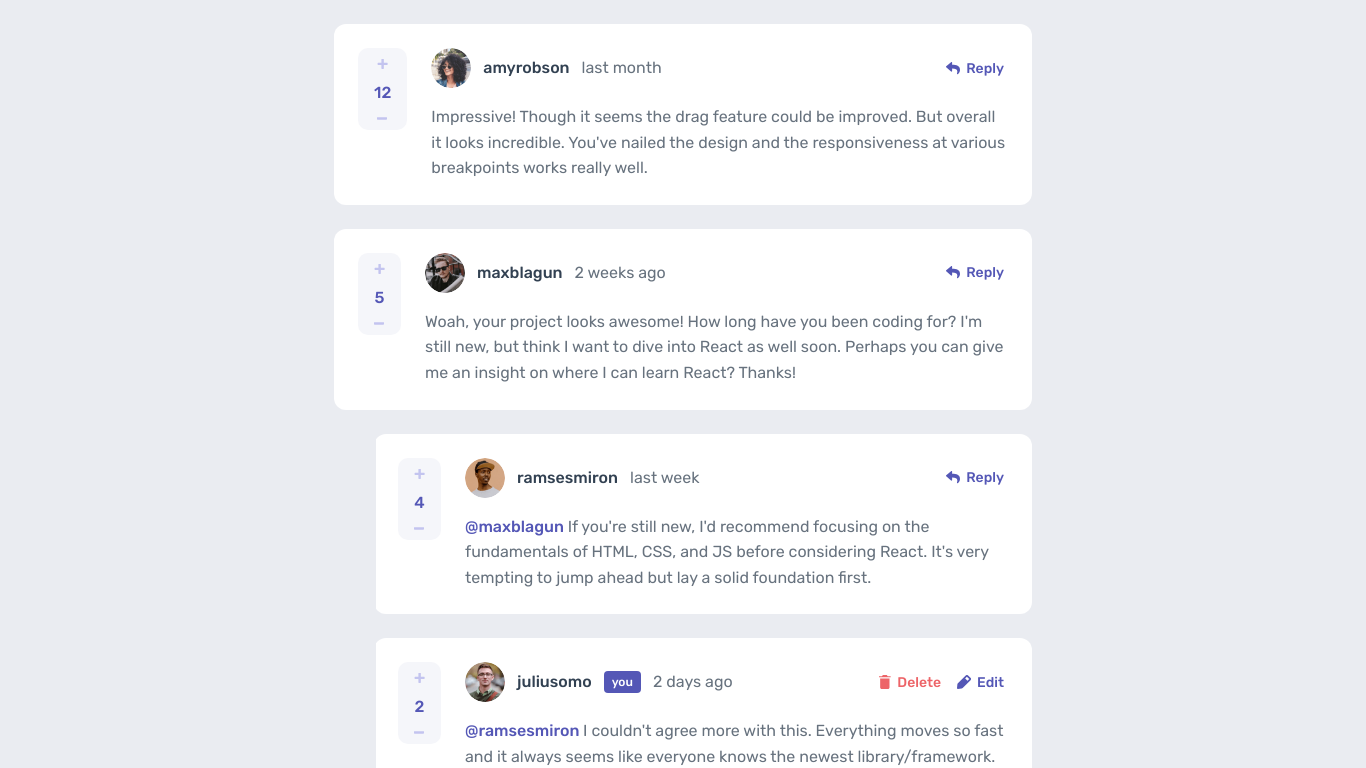
Test: App integration › pressing Escape closes delete modal
Click the button "Delete" at (910, 682), box [875,668,945,697]
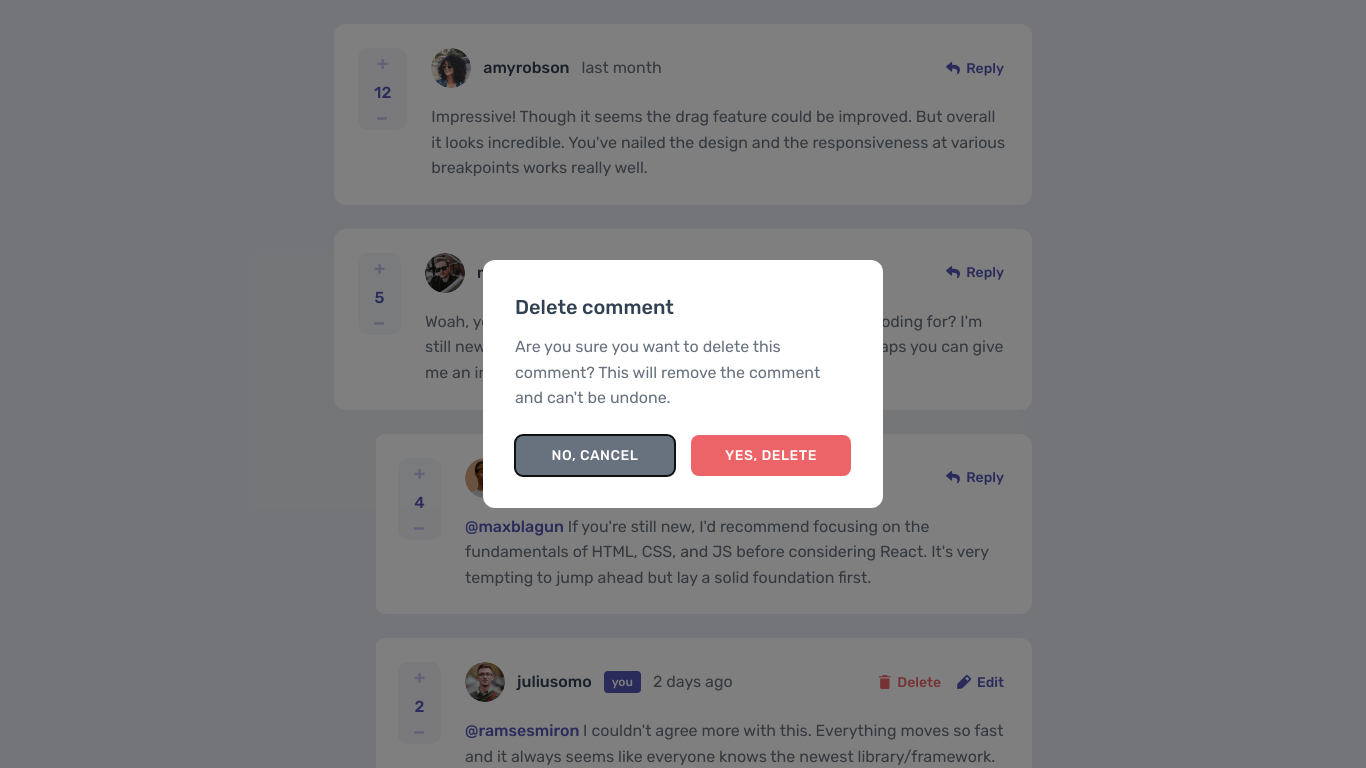
Expected: the heading "Delete comment" is shown, [515,295,674,319]
Press Escape
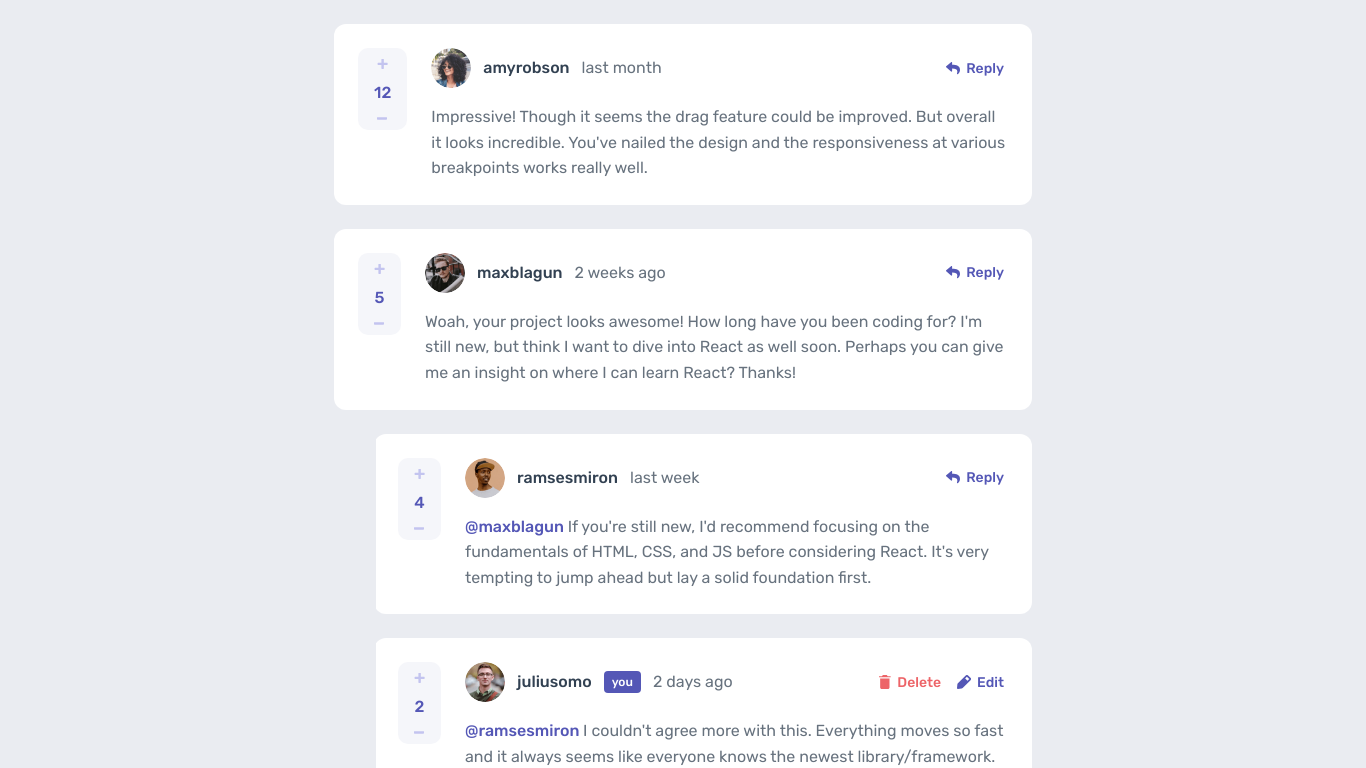
Expected: the heading "Delete comment" is gone
